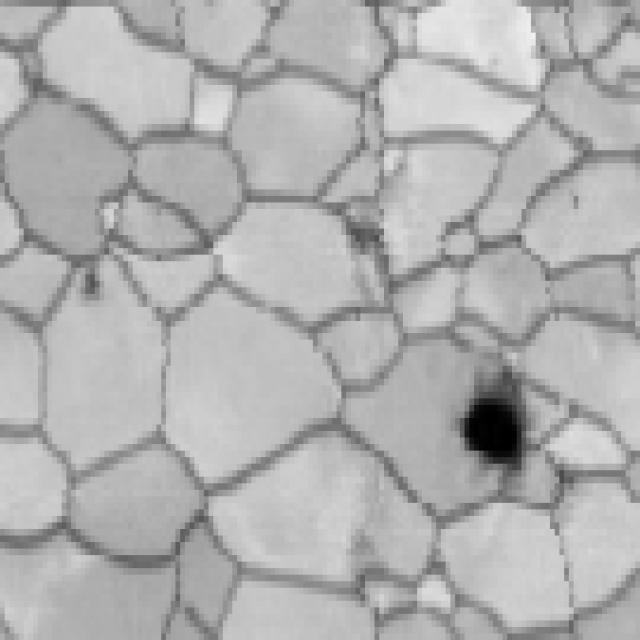good_void: (445, 383, 534, 471), (337, 512, 392, 578), (342, 211, 388, 261), (560, 171, 596, 225), (78, 267, 108, 302)
